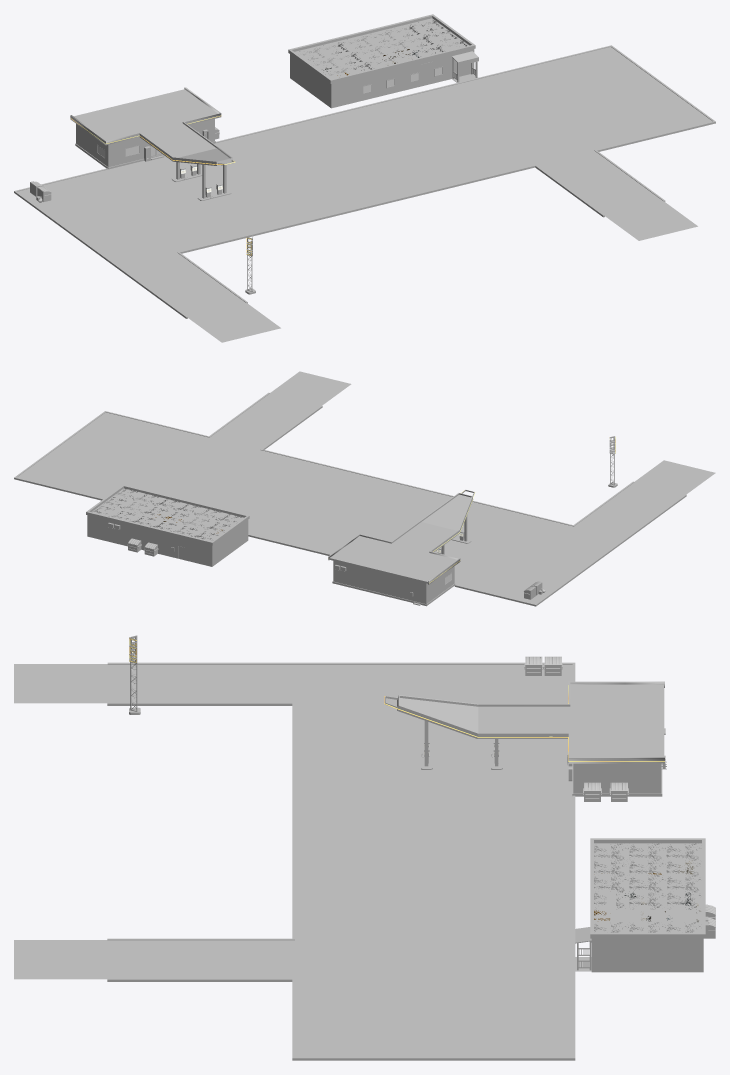
Rendered from GasAndBeerHoney.fbx.
The picture shows the model from 3 angles, top to bottom: view 1: azimuth 30°, elevation 25°; view 2: azimuth 150°, elevation 25°; view 3: azimuth 270°, elevation 25°; orthographic projection. The views are drawn at different scales.
Visible parts, largest first — view 1: Parking.001, BeerHoneyRoof, BeerHoney, GasRoof, Bordur.002, GasStationRoof, GasBilding, BeerHoney.001; view 2: Parking.001, BeerHoneyRoof, BeerHoney, GasRoof, Bordur.002, GasBilding, GasStationRoof; view 3: Parking.001, BeerHoneyRoof, GasRoof, Bordur.002, BeerHoney, GasStationRoof, GasBilding, DumpsterCap1.009.
Boxes of the visible parts, x1,y1,x2,y2 form: Parking.001: (17,47,712,342); BeerHoneyRoof: (288,14,475,83); BeerHoney: (290,20,474,107); GasRoof: (70,87,221,145); Bordur.002: (14,45,715,318); GasStationRoof: (139,122,235,165); GasBilding: (76,119,214,167); BeerHoney.001: (452,51,478,82); Parking.001: (17,371,715,603); BeerHoneyRoof: (86,485,249,545); BeerHoney: (87,489,248,566); GasRoof: (328,534,460,584); Bordur.002: (14,392,686,606); GasBilding: (333,561,454,604); GasStationRoof: (391,489,475,552); Parking.001: (14,664,572,1056); BeerHoneyRoof: (590,838,705,938); GasRoof: (568,681,664,763); Bordur.002: (107,662,575,1060); BeerHoney: (591,844,709,971); GasStationRoof: (384,695,570,738); GasBilding: (573,755,666,793); DumpsterCap1.009: (524,656,562,675).
Bounding box in the file's own units: 10033 × 909 × 7527.
